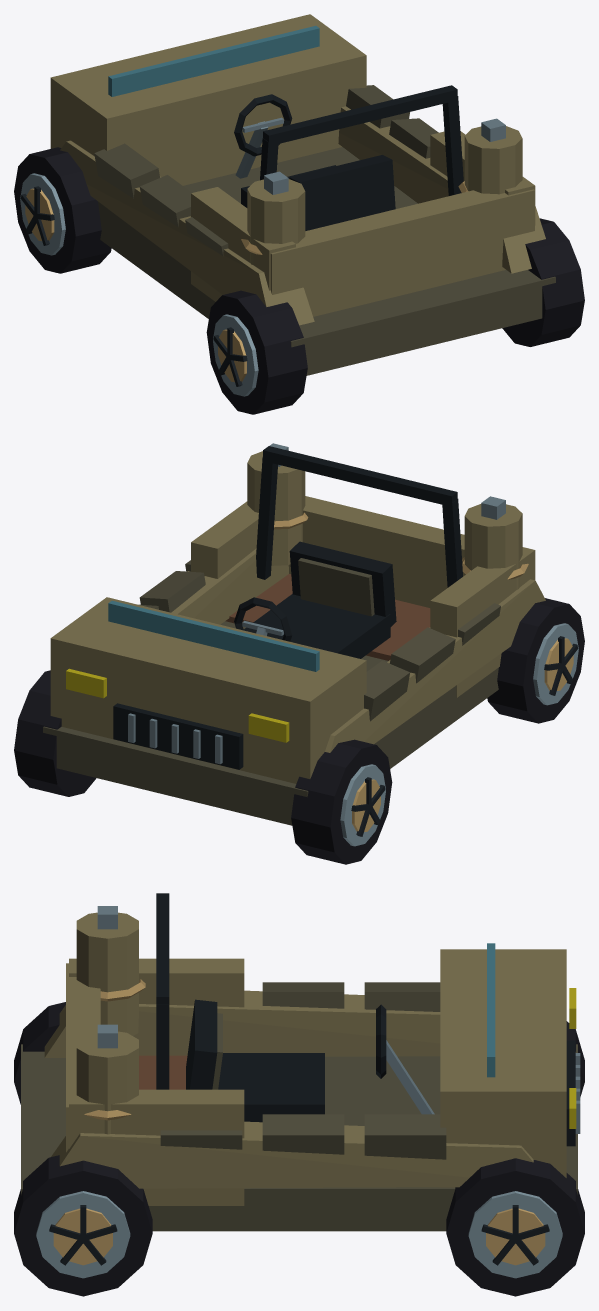
File: kart.glb
The picture shows the model from 3 angles, top to bottom: view 1: azimuth 30°, elevation 25°; view 2: azimuth 150°, elevation 25°; view 3: azimuth 270°, elevation 25°; orthographic projection. The views are drawn at different scales.
Visible parts, largest first — view 1: identity-truck-truck-utility-body, wheel-rear-left, wheel-front-left, identity-truck-motif-tanks, identity-truck-driver-cockpit, identity-truck-motif-armor, wheel-rear-right, identity-truck-motif-rollbar; view 2: identity-truck-truck-utility-body, identity-truck-driver-cockpit, wheel-front-left, wheel-rear-left, identity-truck-motif-tanks, identity-truck-motif-rollbar, identity-truck-motif-armor, wheel-front-right; view 3: identity-truck-truck-utility-body, wheel-front-right, wheel-rear-right, identity-truck-motif-armor, identity-truck-motif-tanks, identity-truck-driver-cockpit, identity-truck-motif-rollbar, wheel-rear-left.
Part boxes in pixels (left/top/right/bottom): identity-truck-truck-utility-body: left=50, top=14, right=555, bottom=375; wheel-rear-left: left=206, top=290, right=307, bottom=414; wheel-front-left: left=14, top=147, right=111, bottom=273; identity-truck-motif-tanks: left=241, top=118, right=522, bottom=264; identity-truck-driver-cockpit: left=234, top=94, right=395, bottom=230; identity-truck-motif-armor: left=94, top=85, right=438, bottom=255; wheel-rear-right: left=502, top=218, right=584, bottom=346; identity-truck-motif-rollbar: left=260, top=85, right=463, bottom=195; identity-truck-truck-utility-body: left=43, top=496, right=545, bottom=825; identity-truck-driver-cockpit: left=234, top=541, right=396, bottom=658; wheel-front-left: left=291, top=739, right=392, bottom=864; wheel-rear-left: left=487, top=598, right=584, bottom=723; identity-truck-motif-tanks: left=247, top=443, right=528, bottom=589; identity-truck-motif-rollbar: left=256, top=446, right=462, bottom=587; identity-truck-motif-armor: left=139, top=560, right=500, bottom=721; wheel-front-right: left=14, top=670, right=96, bottom=796; identity-truck-truck-utility-body: left=21, top=943, right=580, bottom=1231; wheel-front-right: left=446, top=1158, right=584, bottom=1296; wheel-rear-right: left=14, top=1155, right=152, bottom=1296; identity-truck-motif-armor: left=160, top=982, right=446, bottom=1159; identity-truck-motif-tanks: left=76, top=906, right=145, bottom=1134; identity-truck-driver-cockpit: left=186, top=999, right=434, bottom=1122; identity-truck-motif-rollbar: left=156, top=893, right=169, bottom=1089; wheel-rear-left: left=14, top=1002, right=65, bottom=1104.
Bounding box in the file's own units: 2.13 × 1.43 × 2.8.
